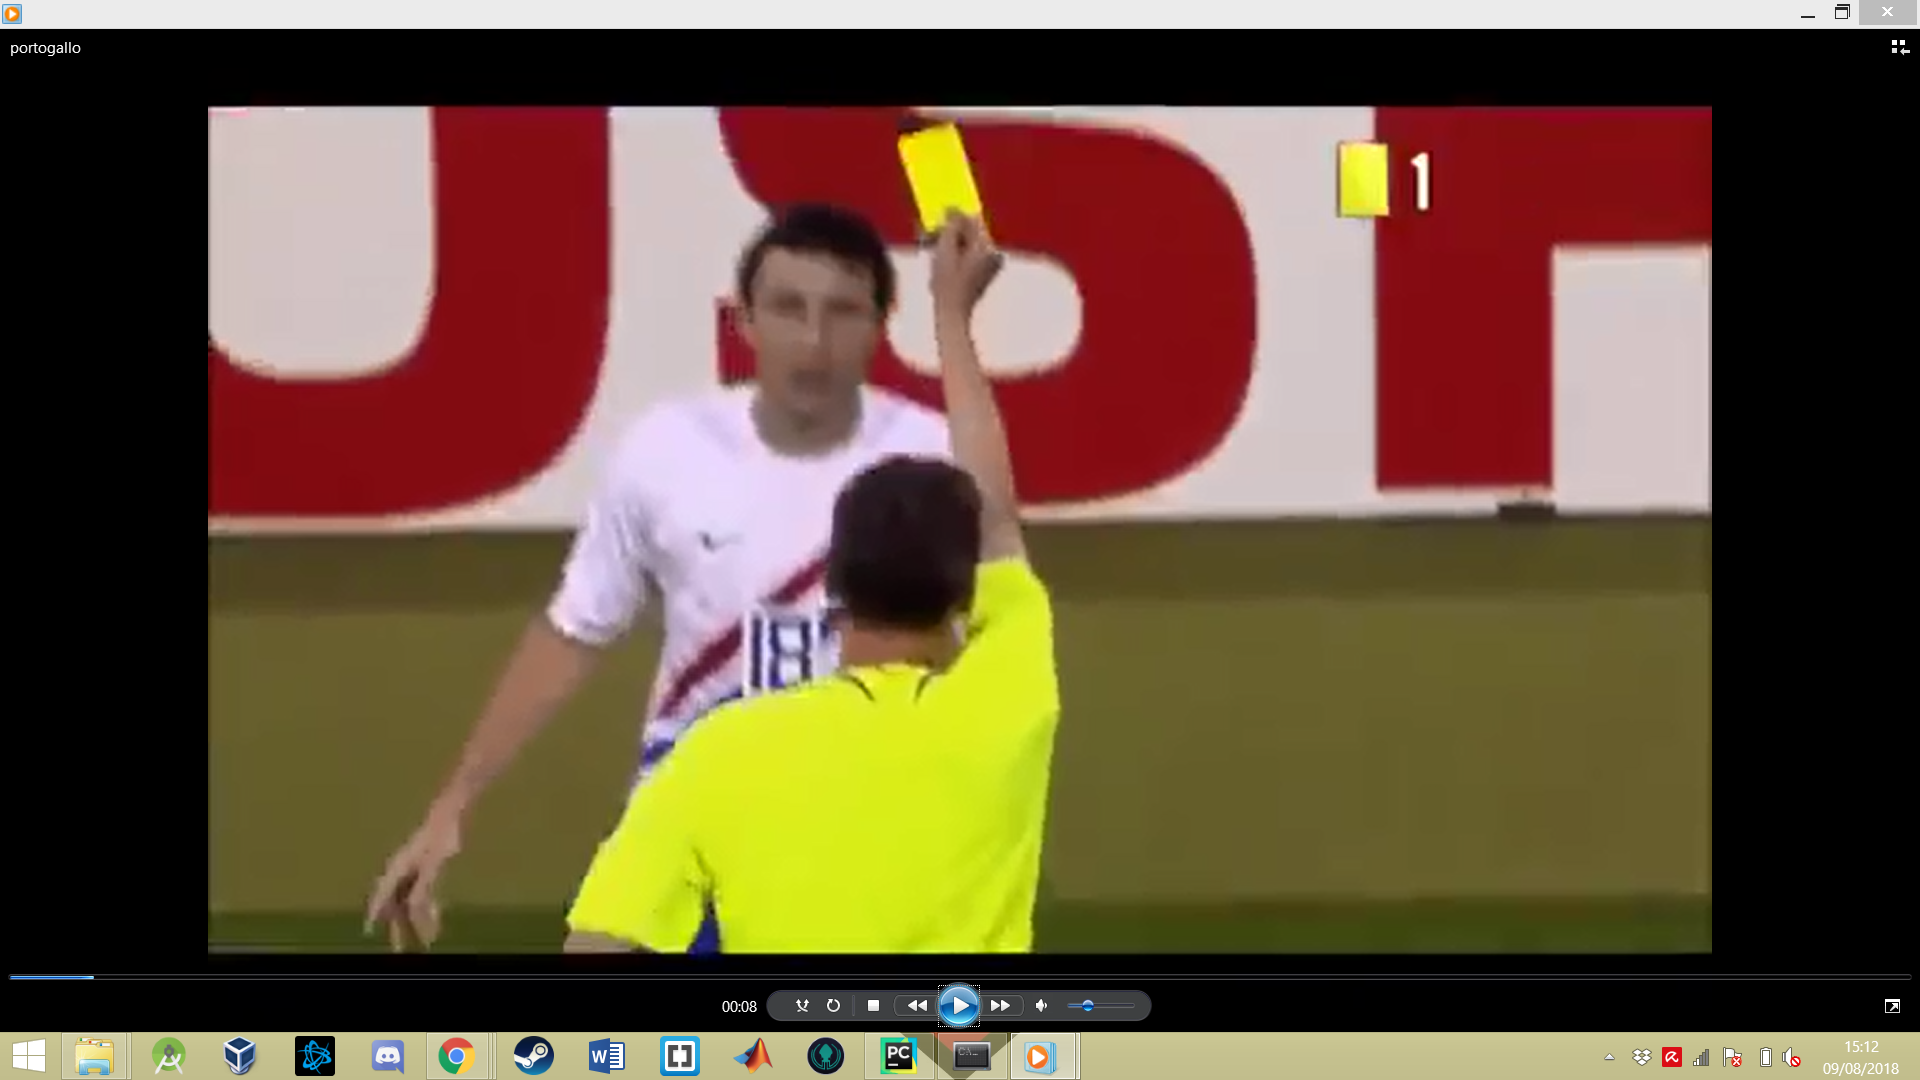yellow_card: (891, 119, 1007, 316)
